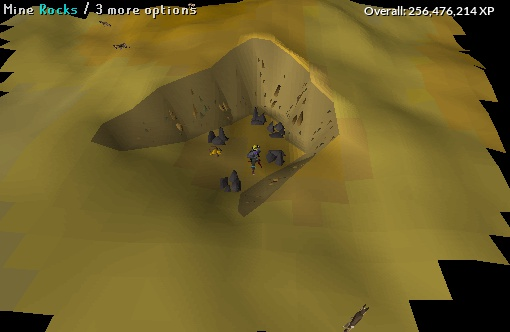depleted: (212, 167, 253, 198), (262, 147, 294, 173), (205, 125, 236, 150), (243, 103, 270, 128)
